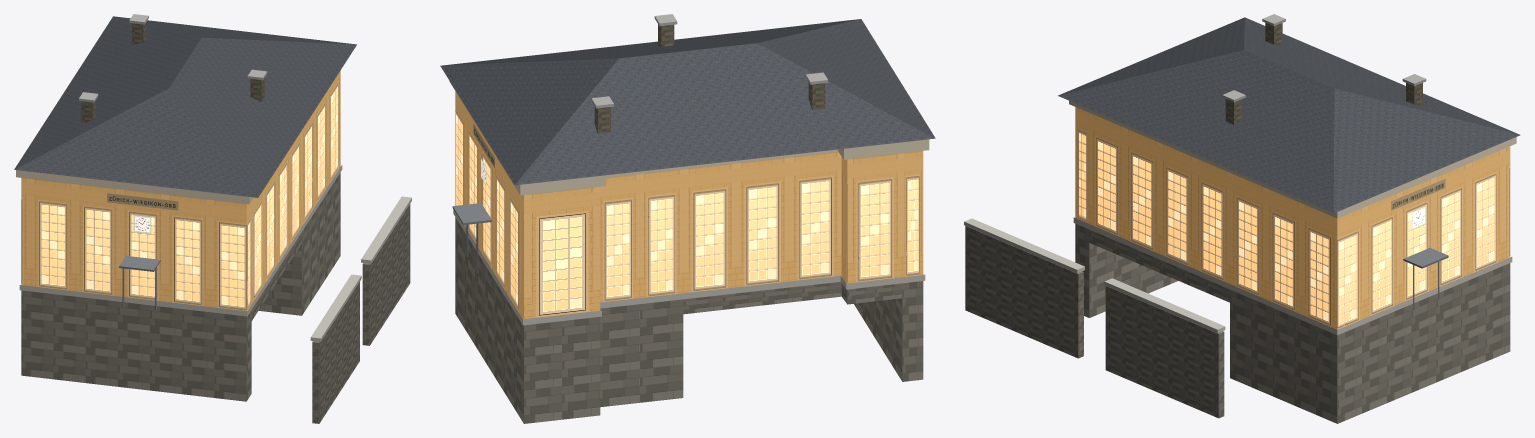
Rendered from k93_wiedikon.glb.
3 views of the same model, side by side, from view 1: azimuth 30°, elevation 25°; view 2: azimuth 150°, elevation 25°; view 3: azimuth 270°, elevation 25° (orthographic). The views are drawn at different scales.
Bounding box in the file's own units: 41.88 × 26.3 × 50.24.
Materials: 7 (6 with a texture image).
